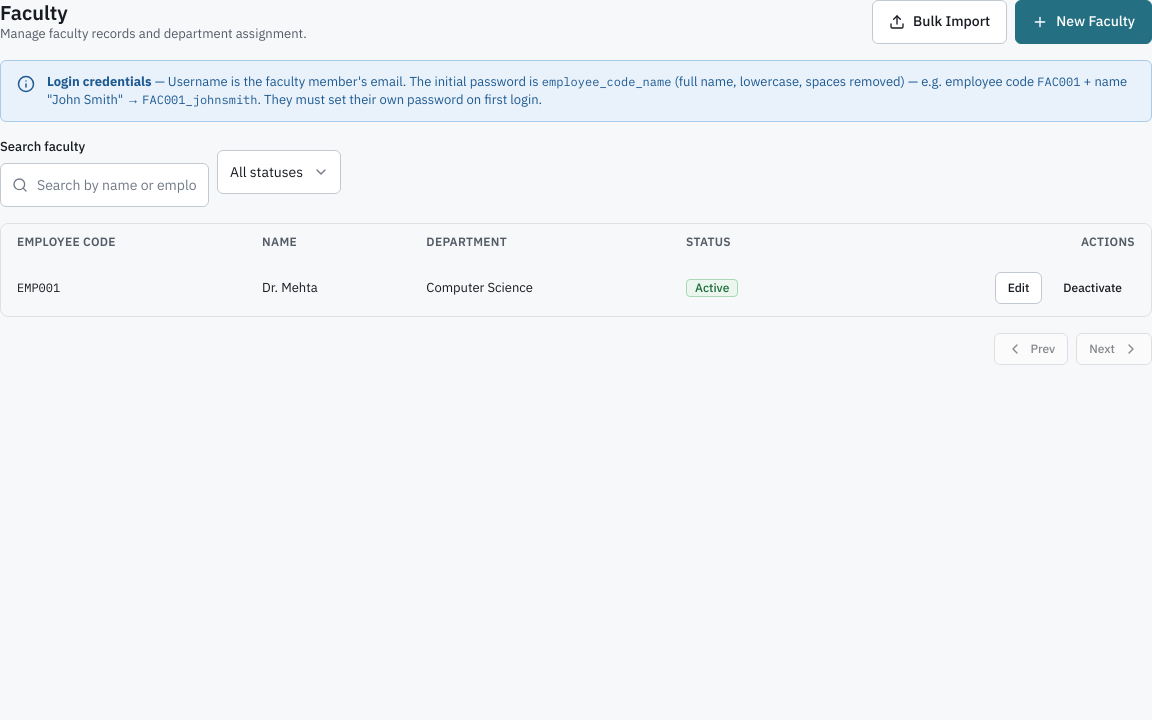
Scenario: Admin > People > Faculty › lists, creates, and reports a 409 on duplicate employee code
This screenshot has width=1152, height=720.
Expected: the text "Dr. Mehta" is shown, x1=246 y1=260 x2=410 y2=316
Click the button "New Faculty" at point(1084, 22), box x1=1015 y1=0 x2=1151 y2=44
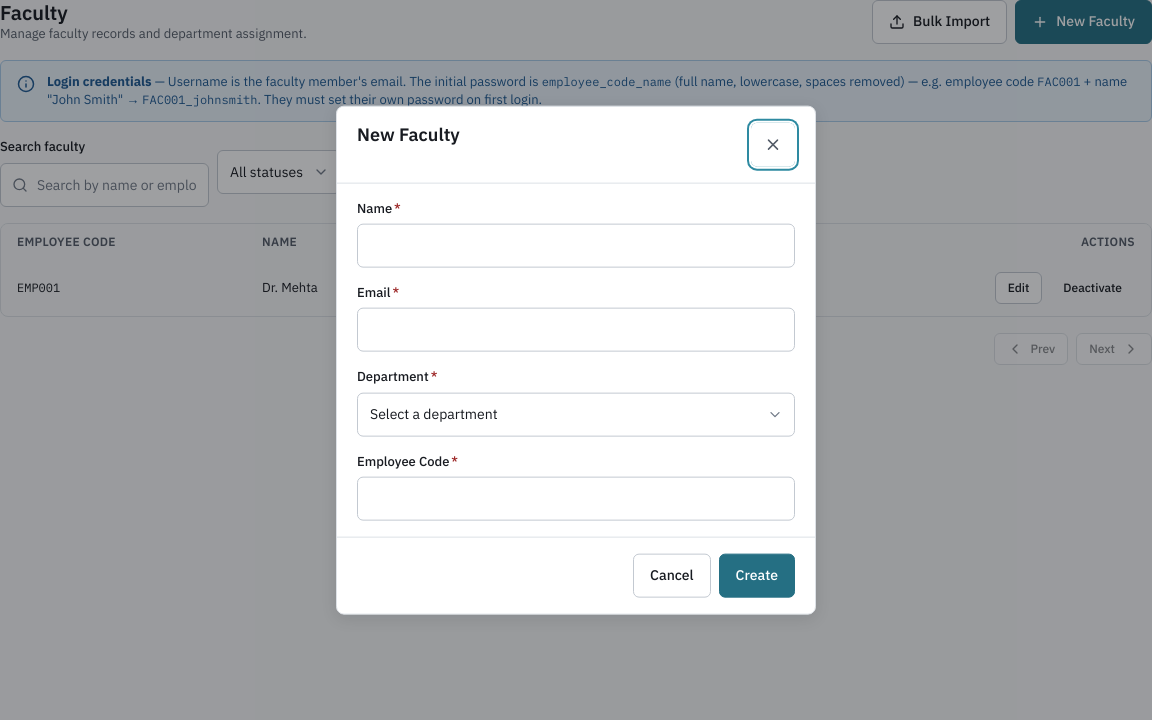
Type "Dr. Iyer" into the field labelled "Name*" at point(576, 246), box x1=357 y1=224 x2=795 y2=268
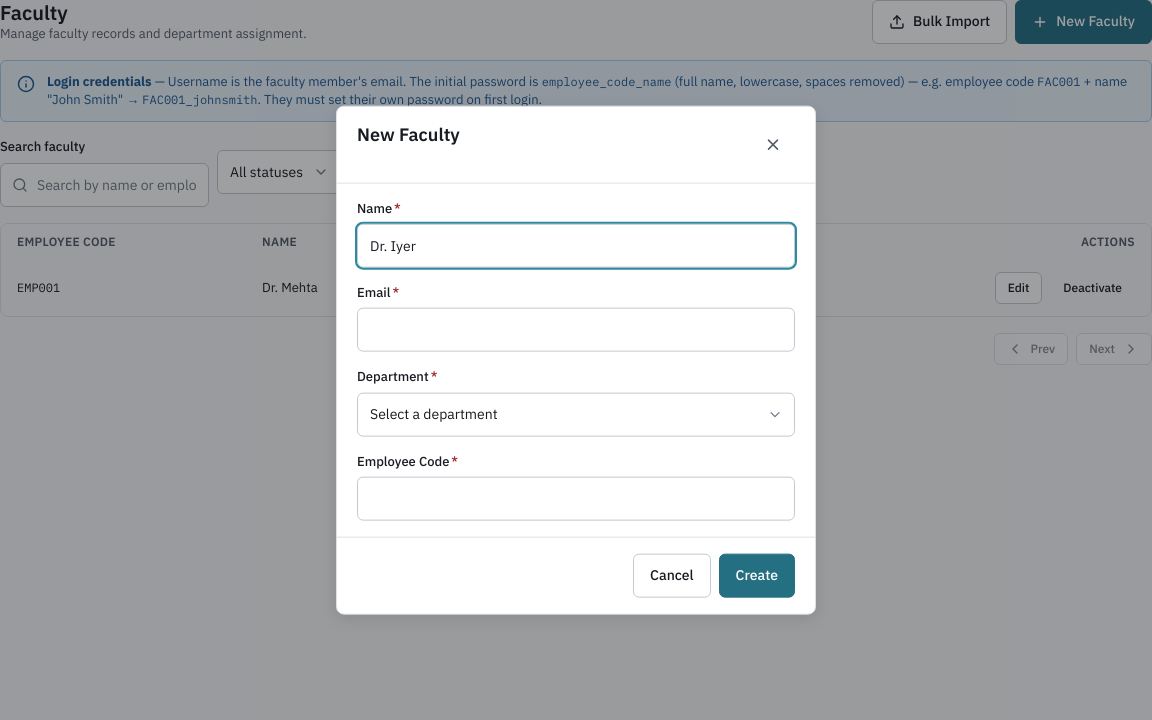
Type "iyer@example.com" into the field labelled "Email*" at point(576, 330), box x1=357 y1=308 x2=795 y2=352
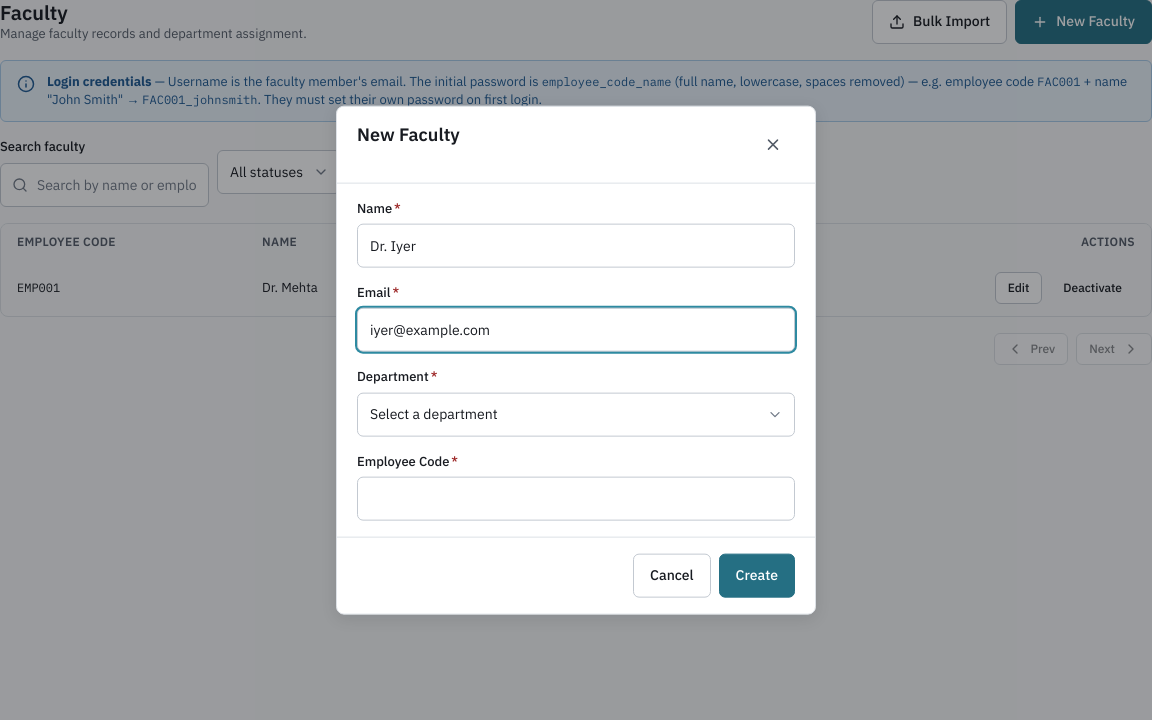
Select "CS — Computer Science" in the dropdown labelled "Department*" at point(576, 414), box x1=357 y1=392 x2=795 y2=436
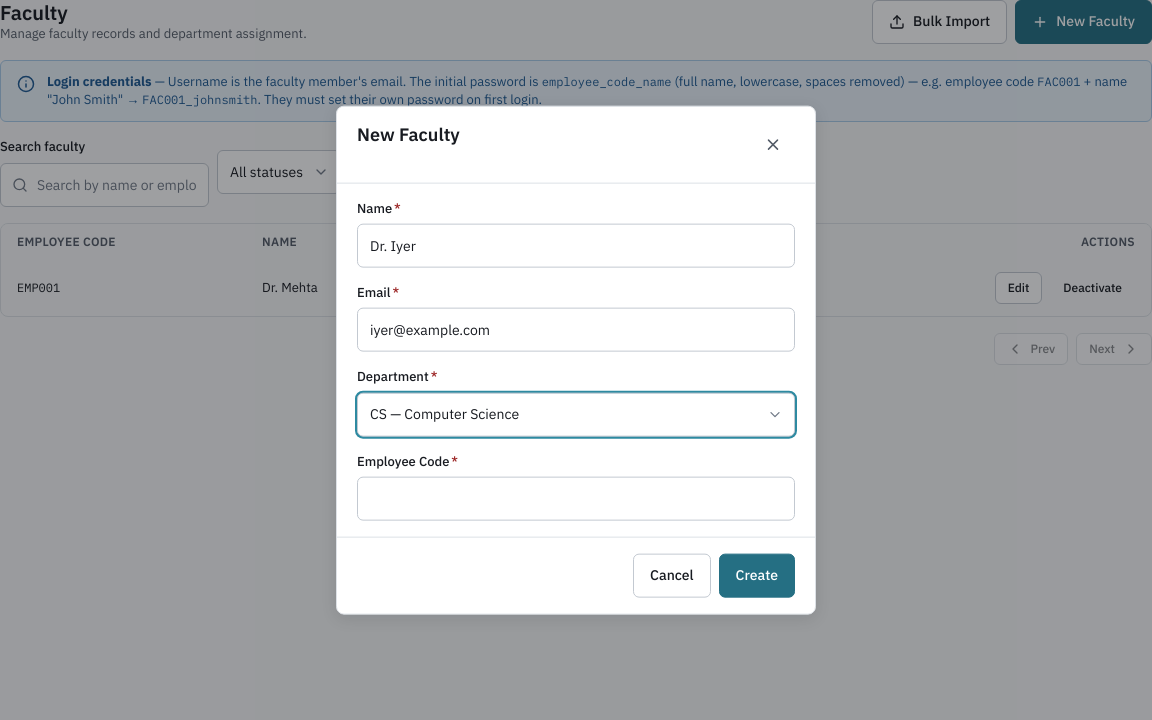
Type "EMP001" into the field labelled "Employee Code*" at point(576, 498), box x1=357 y1=476 x2=795 y2=520
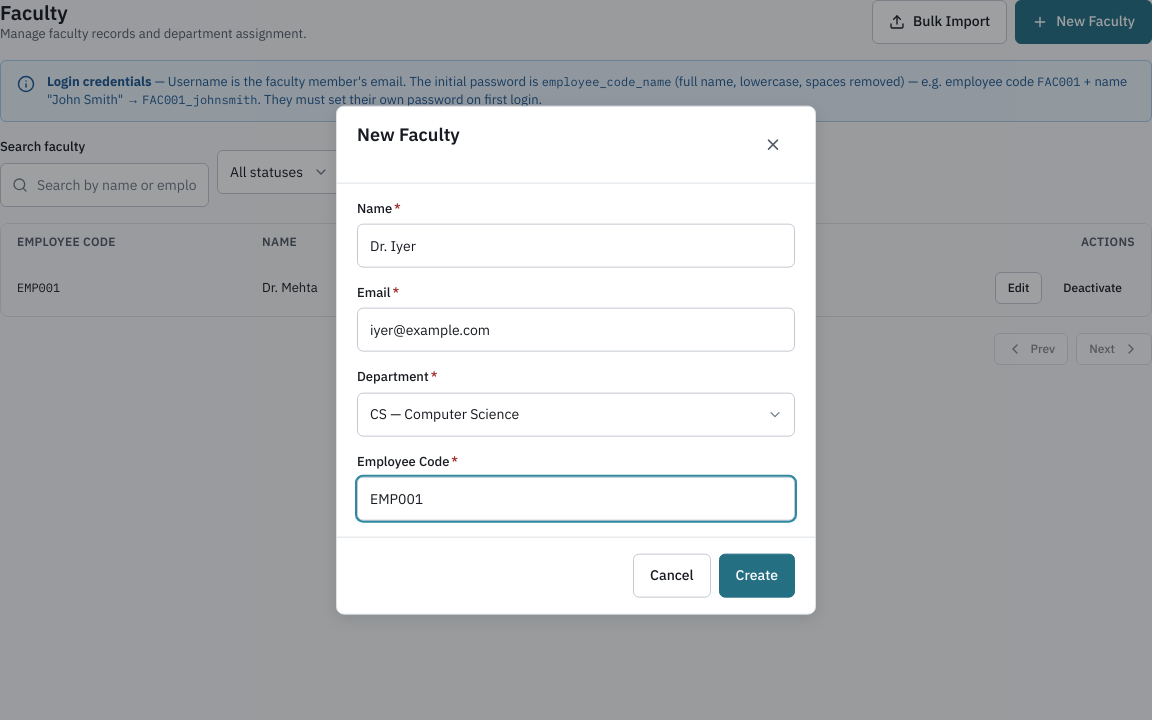
Click the button "Create" at point(757, 575), box x1=719 y1=553 x2=795 y2=597
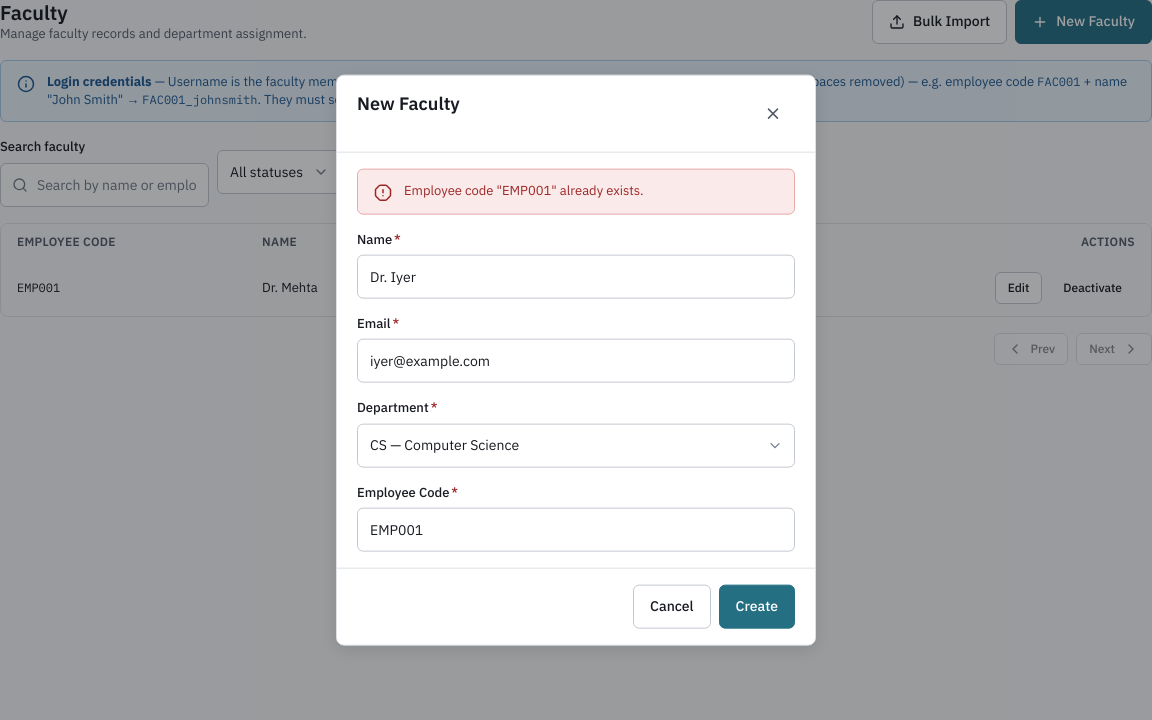
Expected: the text "Employee code \"EMP001\" already exists." is shown, x1=404 y1=182 x2=644 y2=199
